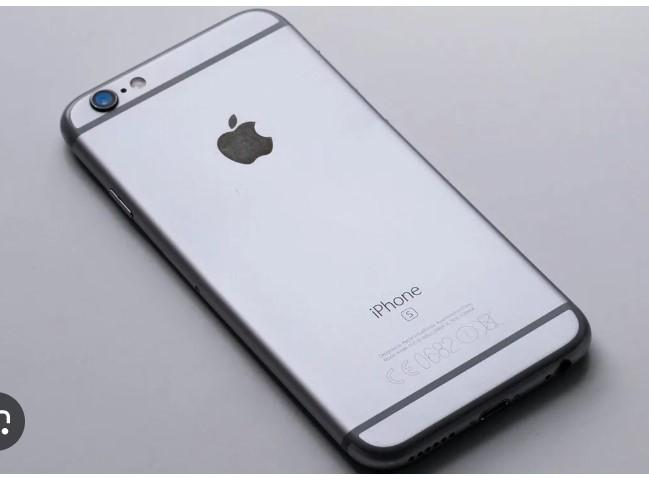Smart Phone: (61, 10, 590, 472)
